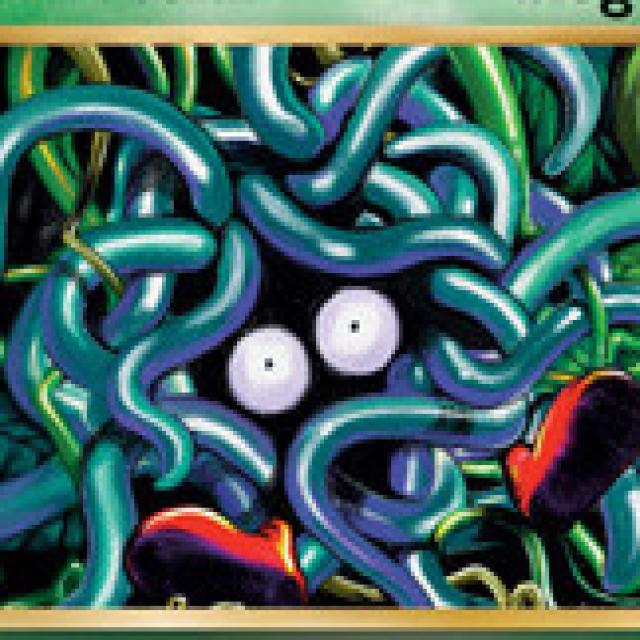Tangela: (93, 129, 584, 609)
